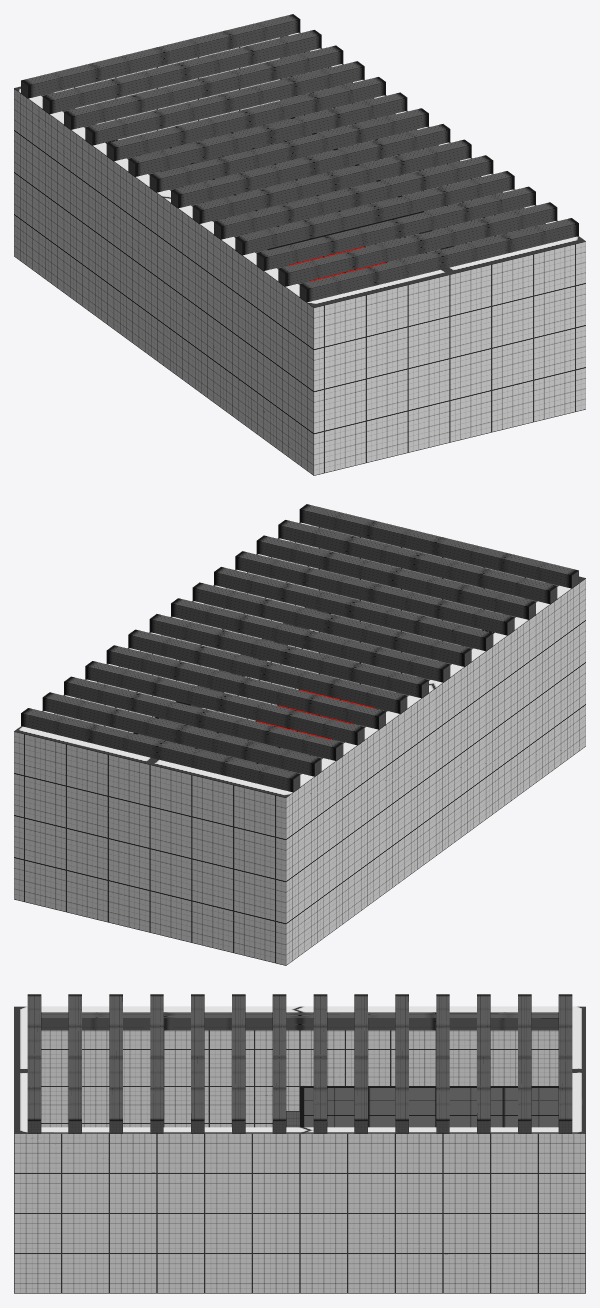
Rendered from GIPlayground.gltf.
3 views of the same model, one above another, from view 1: azimuth 30°, elevation 25°; view 2: azimuth 150°, elevation 25°; view 3: azimuth 270°, elevation 25° (orthographic). The views are drawn at different scales.
Parts seen in each view (by area): view 1: Room base, Gray bar.003, Gray bar.010, Gray bar.002, Gray bar.005, Gray bar.008, Gray bar.009, Gray bar.004, Gray bar.011, Gray bar.012, Gray bar.001, Gray bar.006 (+4 smaller); view 2: Room base, Gray bar.010, Gray bar.003, Gray bar.004, Gray bar.005, Gray bar.008, Gray bar.011, Gray bar.009, Gray bar.001, Gray bar.002, Gray bar.006, Gray bar.007 (+3 smaller); view 3: Room base, Gray bar.014, Gray bar.019, Gray bar, Gray bar.006, Gray bar.007, Gray bar.013, Gray bar.001, Gray bar.002, Gray bar.003, Gray bar.004, Gray bar.005 (+5 smaller).
Boxes of the visible parts, x1,y1,x2,y2 form: Room base: (14,32,585,475); Gray bar.003: (85,61,364,145); Gray bar.010: (235,171,514,255); Gray bar.002: (64,45,343,129); Gray bar.005: (128,92,407,176); Gray bar.008: (192,139,471,223); Gray bar.009: (214,155,493,239); Gray bar.004: (106,77,385,161); Gray bar.011: (256,186,535,270); Gray bar.012: (278,202,557,286); Gray bar.001: (42,30,321,113); Gray bar.006: (149,108,428,192); Room base: (14,522,585,965); Gray bar.010: (235,551,514,635); Gray bar.003: (85,661,364,745); Gray bar.004: (106,645,385,729); Gray bar.005: (128,629,407,713); Gray bar.008: (192,582,471,666); Gray bar.011: (256,535,535,619); Gray bar.009: (214,567,493,651); Gray bar.001: (42,692,321,776); Gray bar.002: (64,676,343,760); Gray bar.006: (149,614,428,698); Gray bar.007: (171,598,450,682); Room base: (14,1006,585,1293); Gray bar.014: (300,1086,558,1127); Gray bar.019: (41,1012,558,1030); Gray bar: (558,994,572,1133); Gray bar.006: (313,994,327,1133); Gray bar.007: (272,994,286,1133); Gray bar.013: (27,994,41,1133); Gray bar.001: (518,994,531,1133); Gray bar.002: (477,994,490,1133); Gray bar.003: (436,994,449,1133); Gray bar.004: (395,994,408,1133); Gray bar.005: (354,994,367,1133).
Bounding box in the file's own units: 22 × 14 × 42.
Materials: 3 (3 with a texture image).
